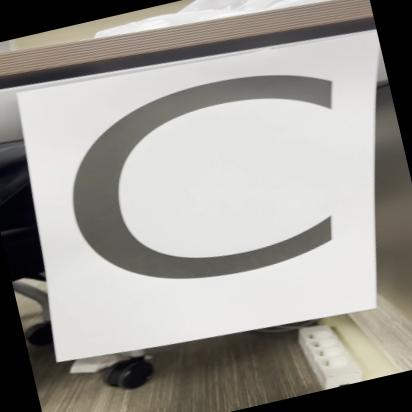seat: (19, 19, 412, 378)
